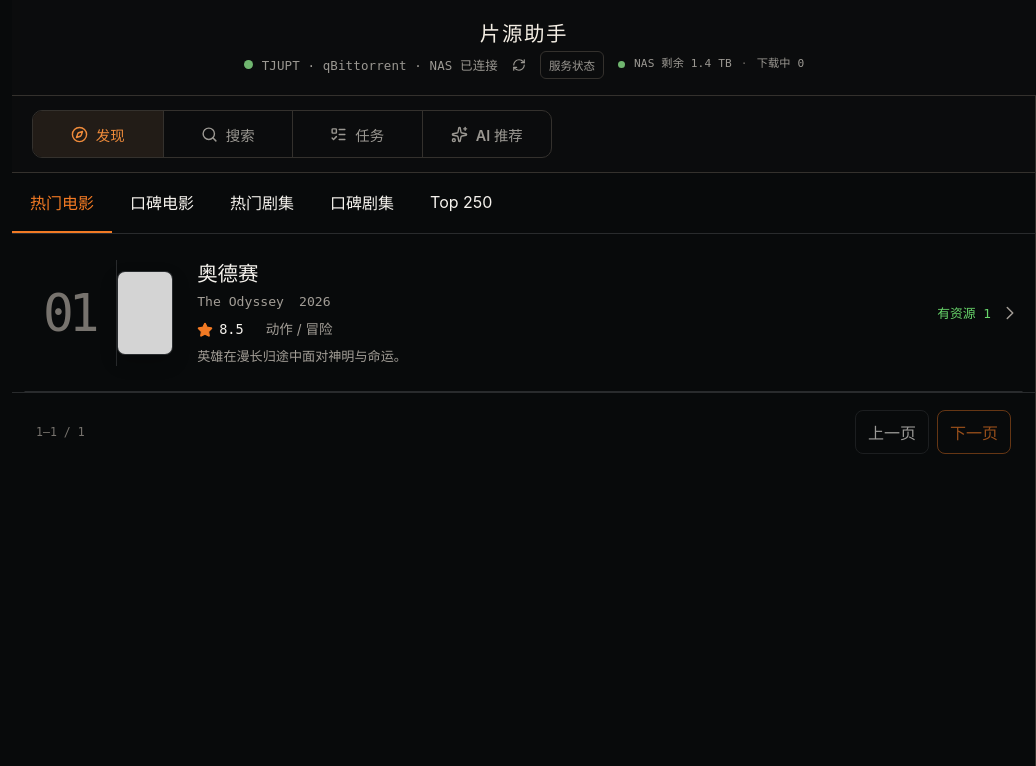
Test: 片源助手客户端 › opens the actor index and returns to the selected work
Click the button with aria-label "奥德赛，第 1 名" at (524, 313), box [24, 234, 1023, 392]
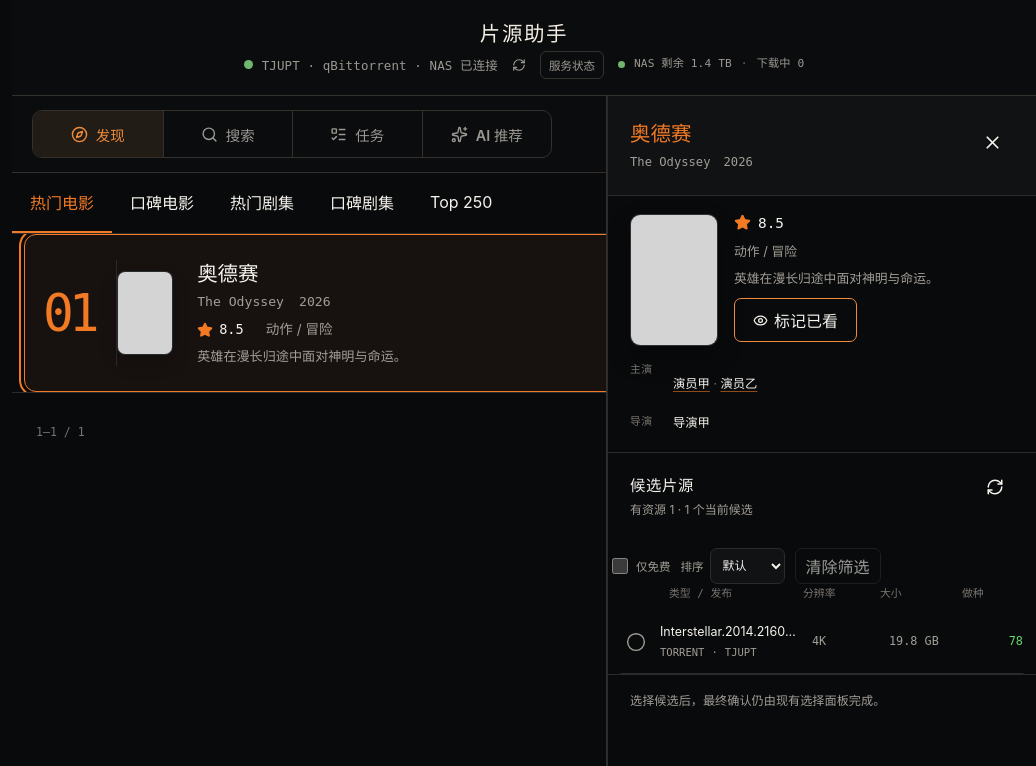
Click the button "演员甲" at (691, 384), box [673, 362, 710, 406]
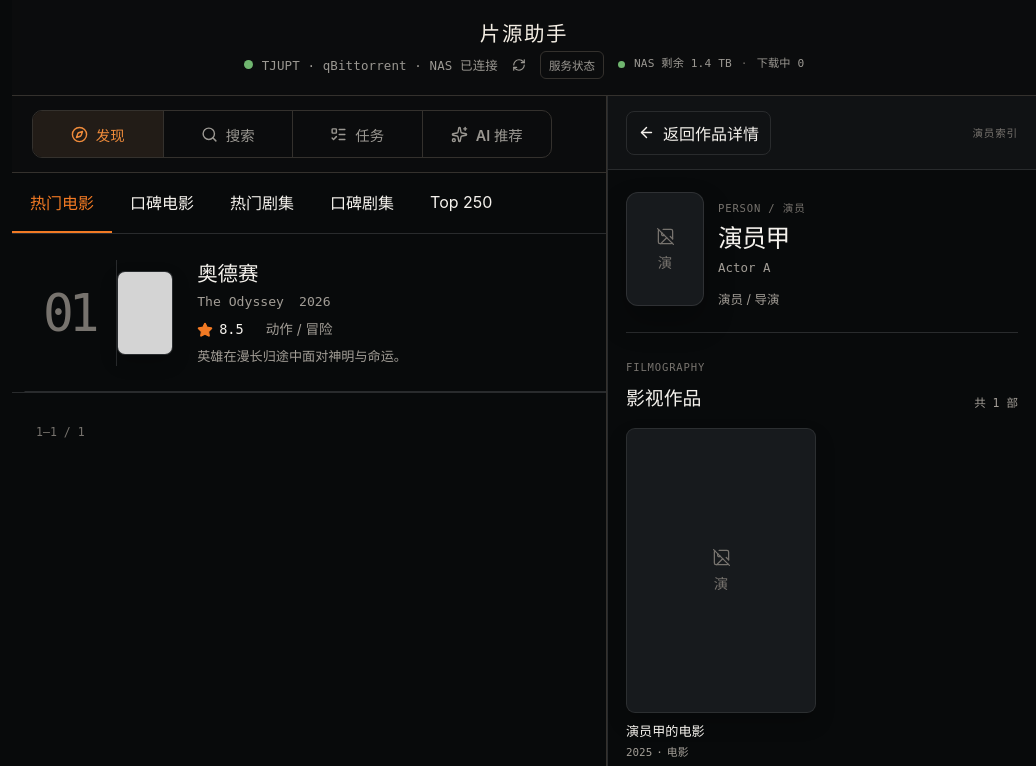
Expected: the heading "演员甲" is shown, [718, 223, 789, 253]
Expected: the text "演员甲的电影" is shown, [626, 723, 705, 741]
Click the button "返回作品详情" at (698, 132), box [626, 110, 771, 154]
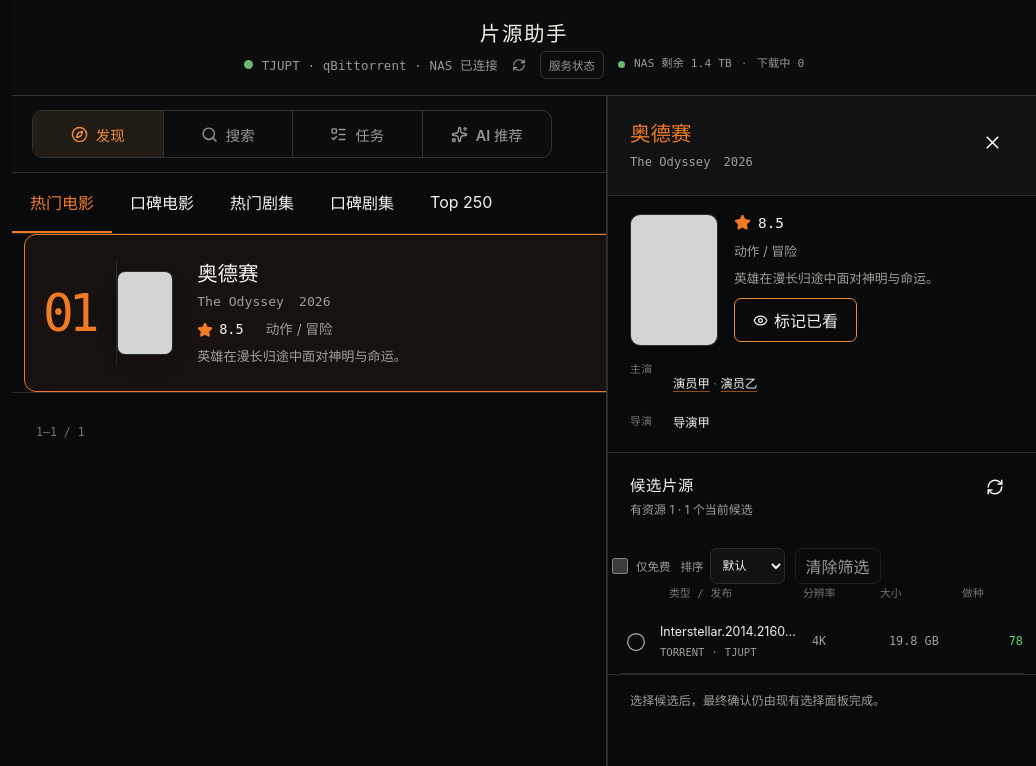
Expected: the 1st heading "奥德赛" is shown, [630, 121, 691, 146]
